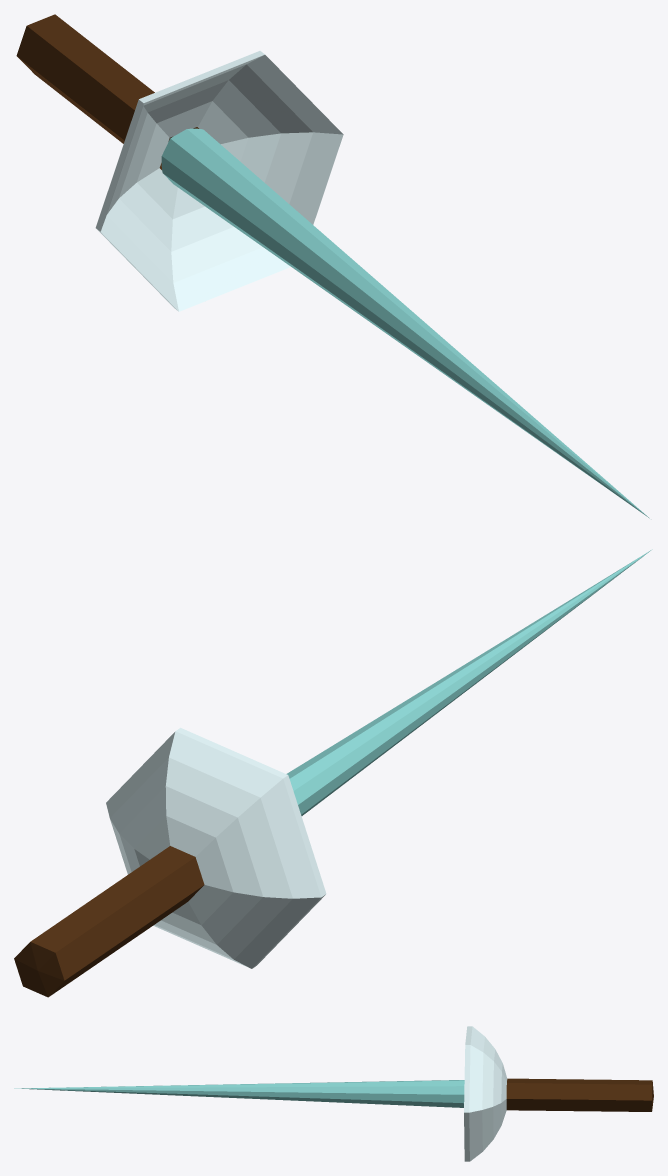
Rendered from Espada.fbx.
3 renders of one model, top to bottom at view 1: azimuth 30°, elevation 25°; view 2: azimuth 150°, elevation 25°; view 3: azimuth 270°, elevation 25°, orthographic. The views are drawn at different scales.
Parts seen in each view (by area): view 1: Body10.001; view 2: Body10.001; view 3: Body10.001.
Boxes of the visible parts, <box> form: Body10.001: <box>16,14,649,518</box>; Body10.001: <box>14,549,652,997</box>; Body10.001: <box>14,1026,653,1161</box>.
Size of the model in its own units: 18.27 by 17.34 by 84.64.
